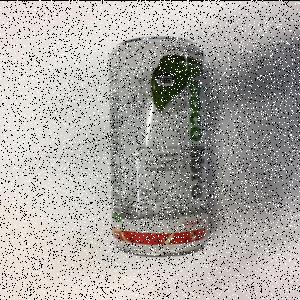Can: (110, 36, 209, 258)
